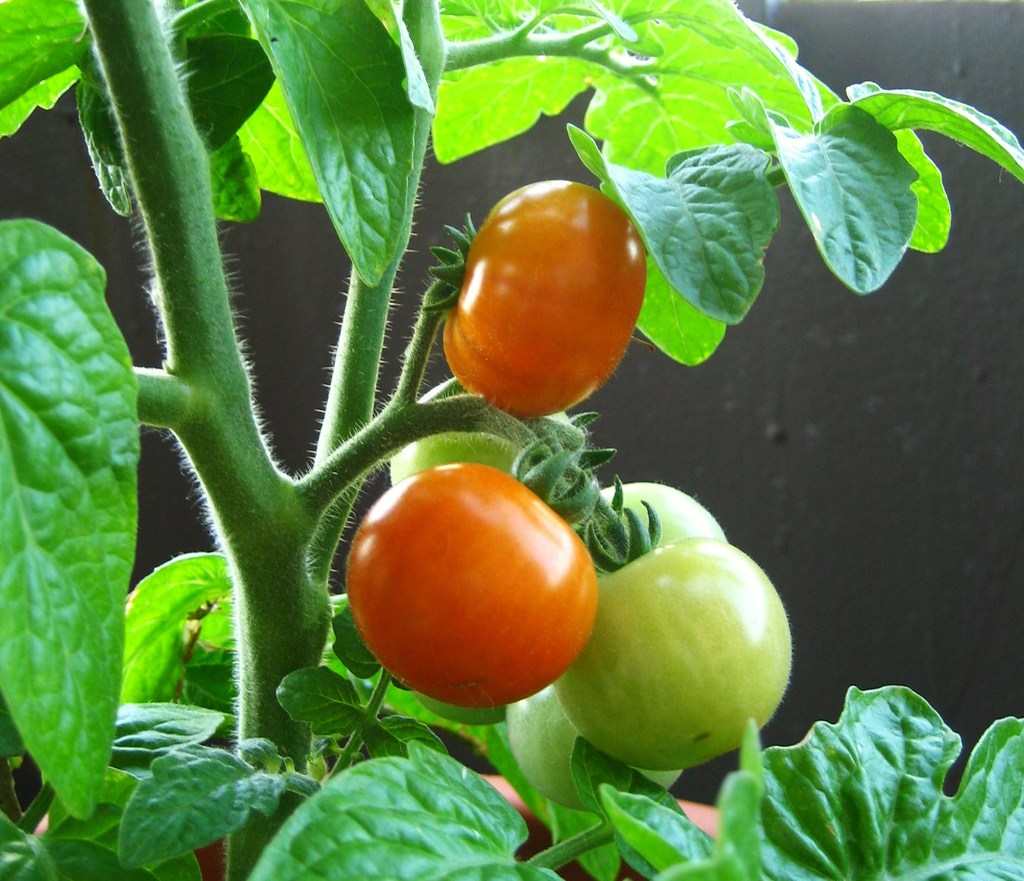Tomato: (505, 485, 727, 808), (553, 497, 792, 770), (355, 461, 609, 703), (423, 180, 648, 423)
